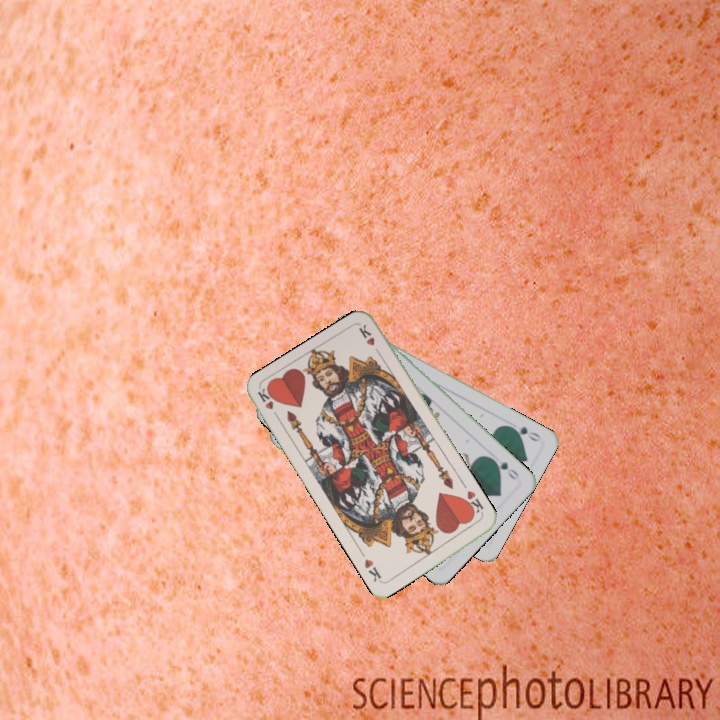GO: (487, 454, 522, 482), (505, 422, 543, 444)
HK: (254, 384, 283, 423), (460, 486, 486, 519)
